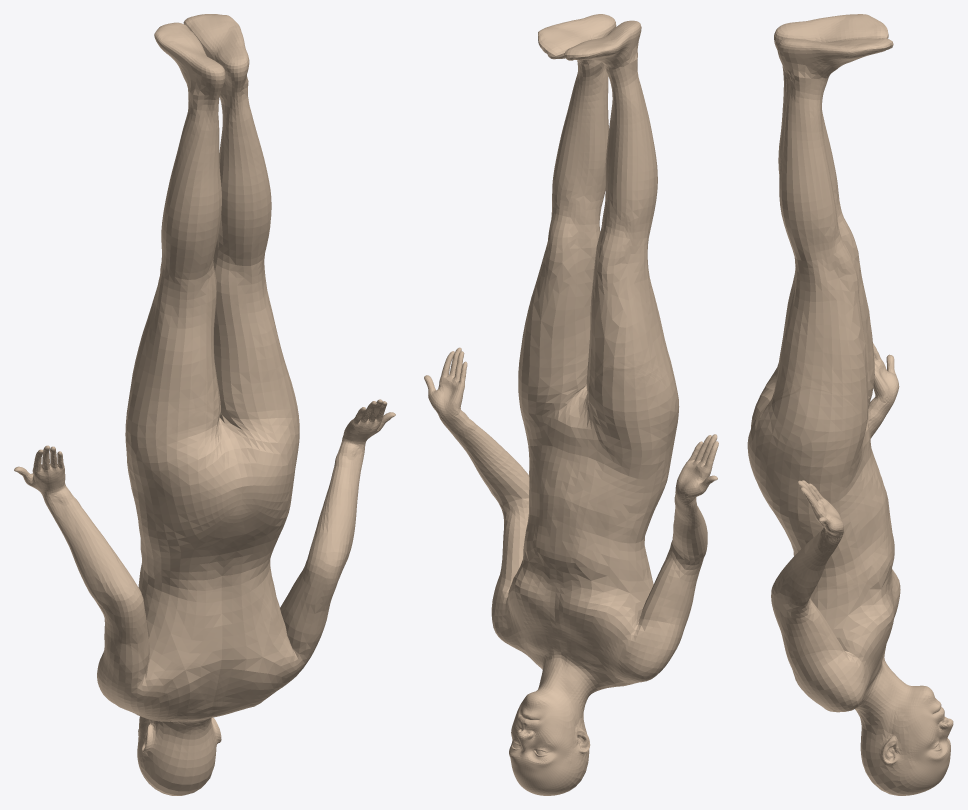
File: body_with_S1.obj
3 renders of one model, left to right at view 1: azimuth 30°, elevation 25°; view 2: azimuth 150°, elevation 25°; view 3: azimuth 270°, elevation 25°, orthographic. The views are drawn at different scales.
Parts seen in each view (by area): view 1: Body; view 2: Body; view 3: Body.
Boxes of the visible parts, <box> form: Body: <box>14,14,395,795</box>; Body: <box>424,14,718,795</box>; Body: <box>747,14,953,795</box>.
Size of the model in its own units: 0.8296 by 1.8 by 0.4412.
